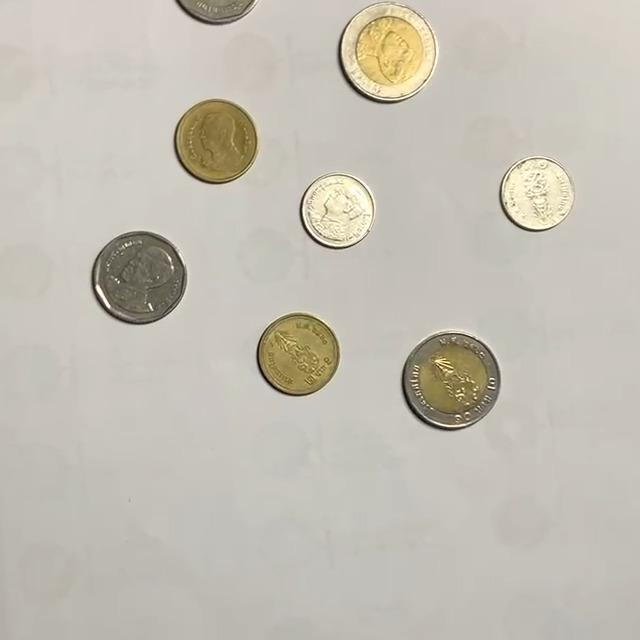1-baht: (499, 155, 577, 231), (300, 173, 377, 249)
10-baht: (340, 2, 440, 102), (402, 331, 503, 429)
2-baht: (174, 98, 259, 183), (258, 312, 341, 395)
5-baht: (92, 230, 188, 324), (169, 0, 265, 25)
